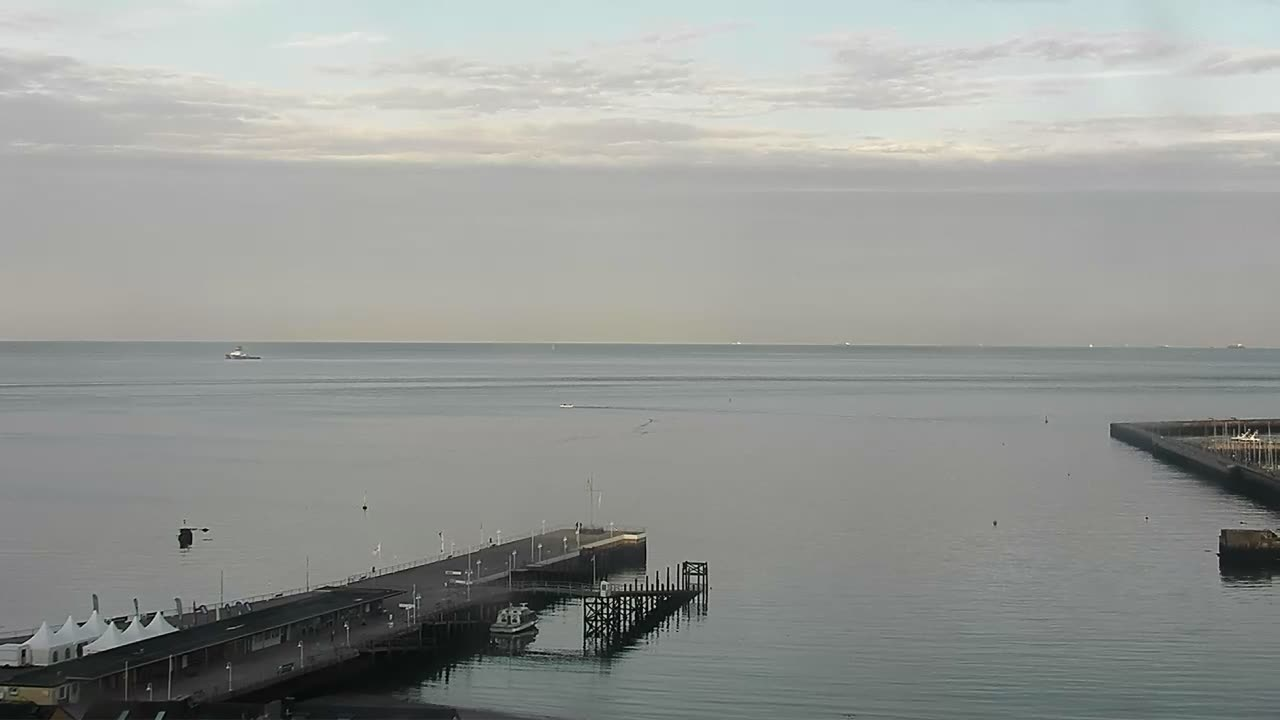human: (579, 520, 583, 531), (575, 521, 579, 531)
sea: (488, 601, 538, 634), (225, 344, 262, 359), (559, 402, 574, 408)
